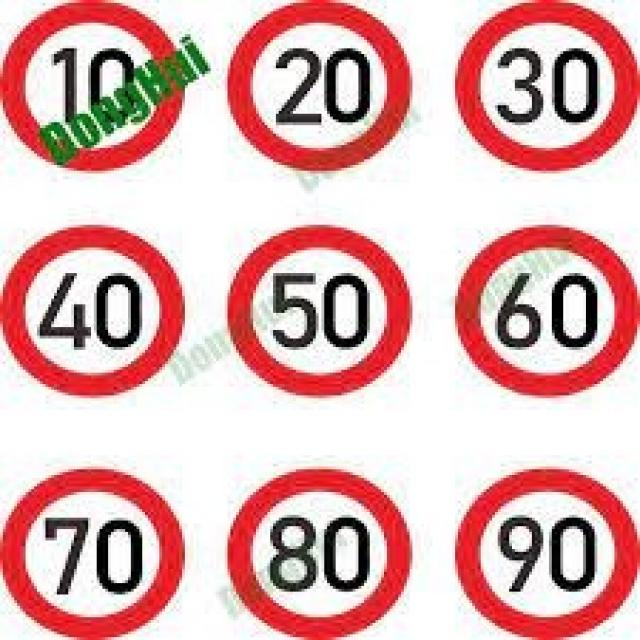speed_limit_20: (222, 0, 422, 180)
speed_limit_30: (442, 0, 640, 179)
speed_limit_50: (225, 212, 420, 400)
speed_limit_60: (447, 214, 640, 402)
speed_limit_70: (0, 462, 194, 640)
speed_limit_80: (225, 455, 417, 640)
